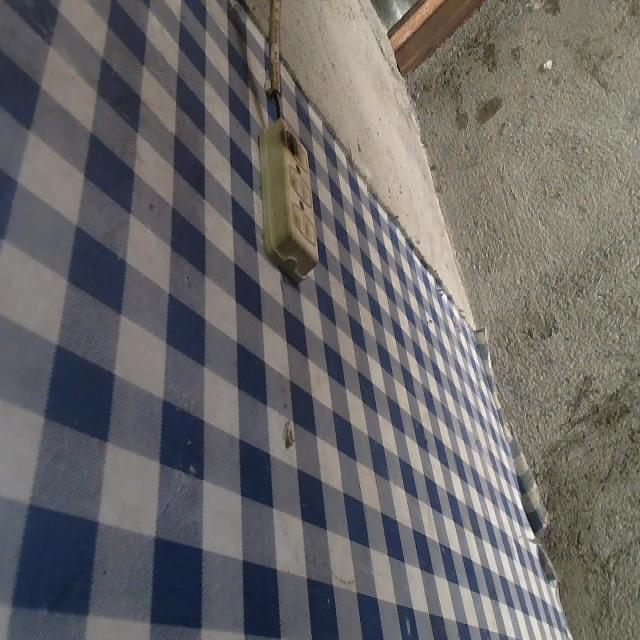-: (276, 122, 301, 162)
